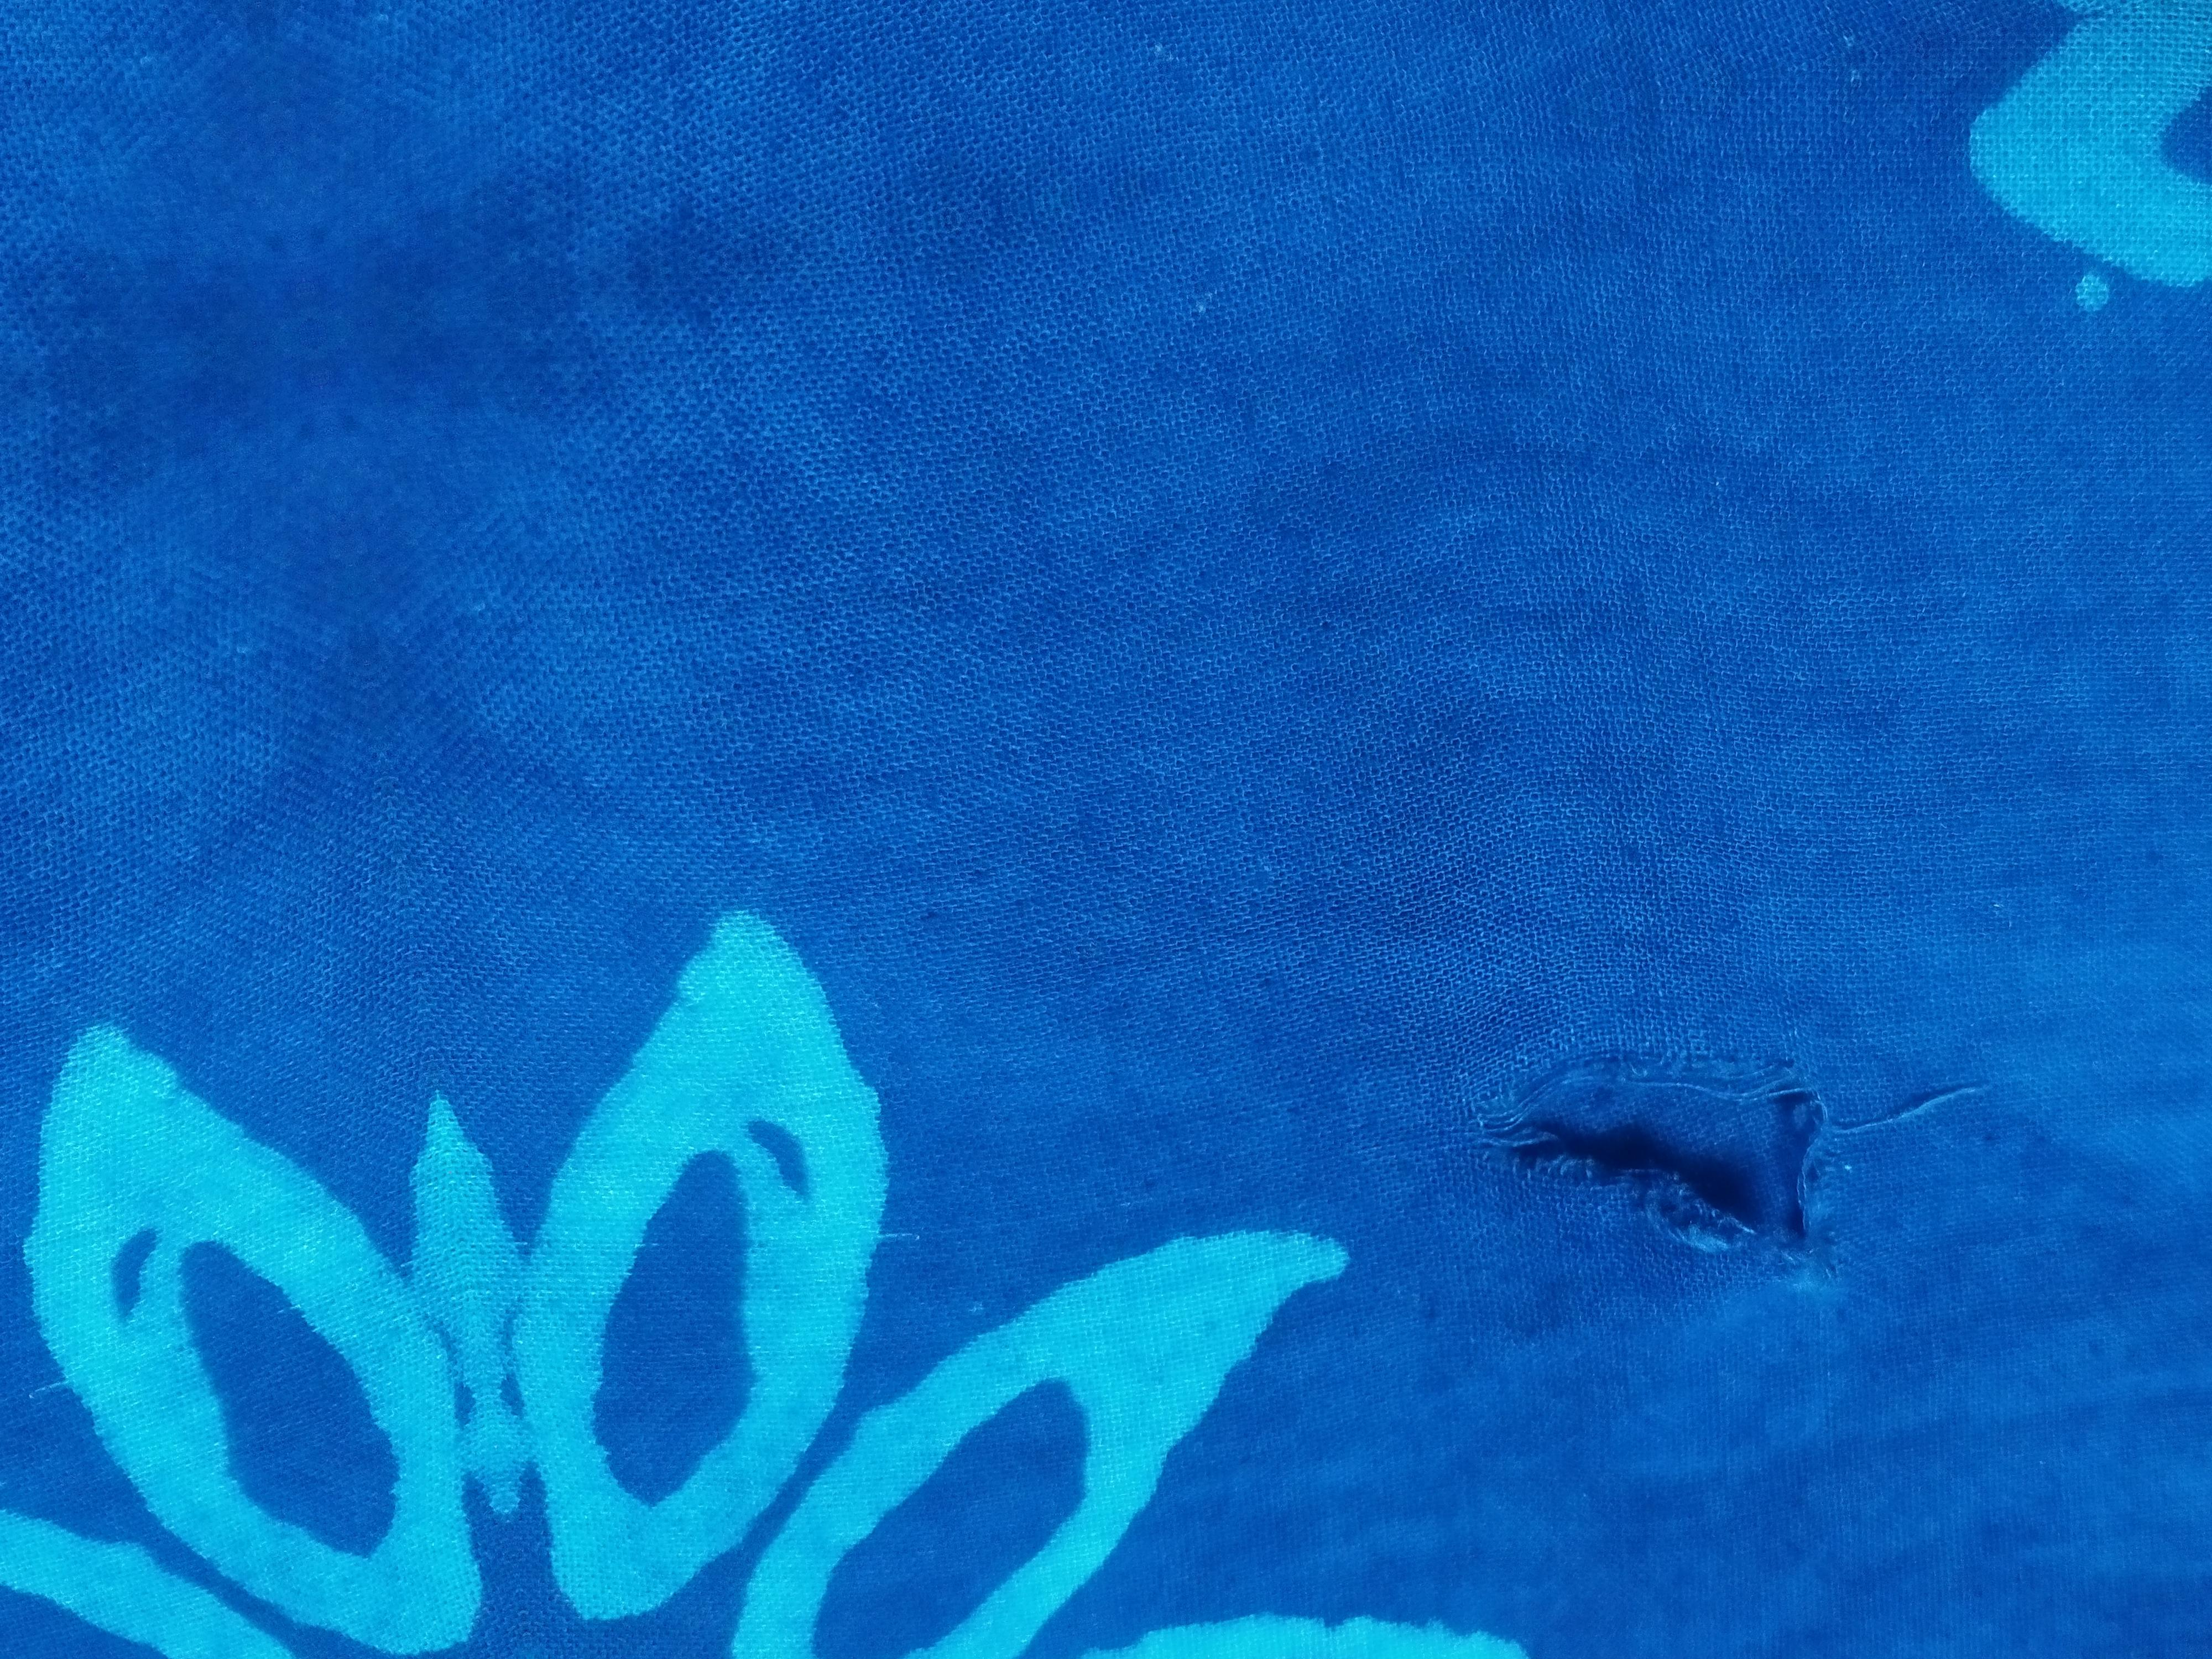hole: (1496, 1049, 1916, 1297)
